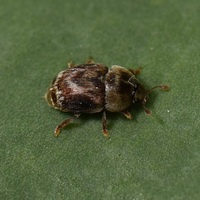insect: (45, 60, 168, 136)
